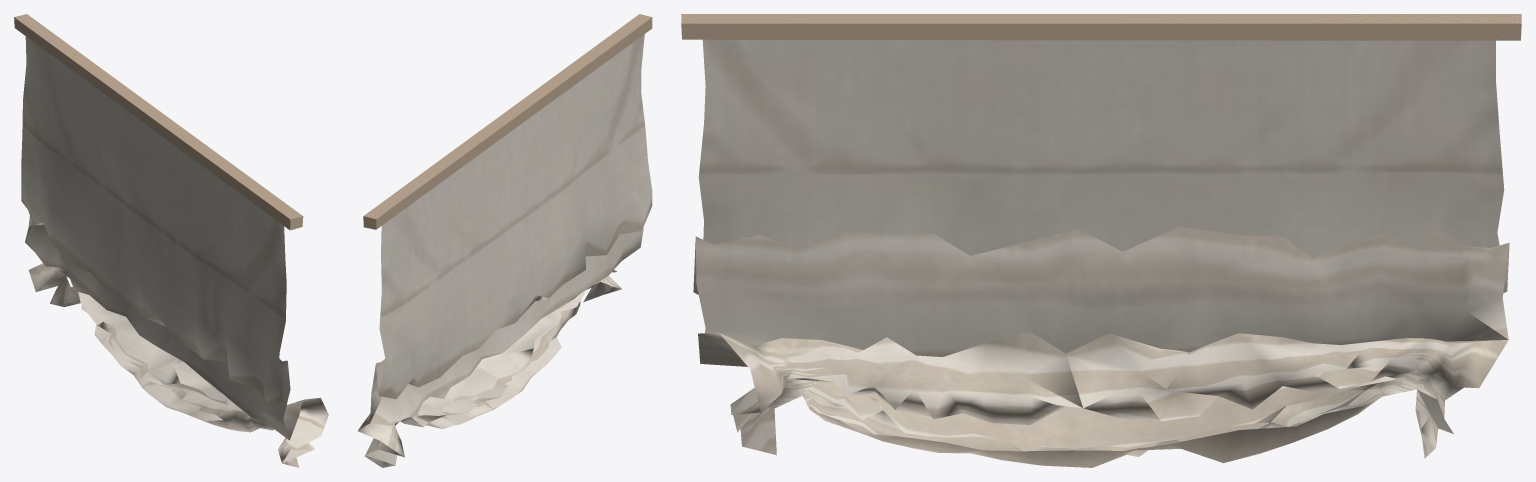
File: Curtains0005.obj
The picture shows the model from 3 angles, left to right: view 1: azimuth 30°, elevation 25°; view 2: azimuth 150°, elevation 25°; view 3: azimuth 270°, elevation 25°; orthographic projection. The views are drawn at different scales.
Size of the model in its own units: 0.174 by 0.628 by 1.11.
1 material, 1 textured.
